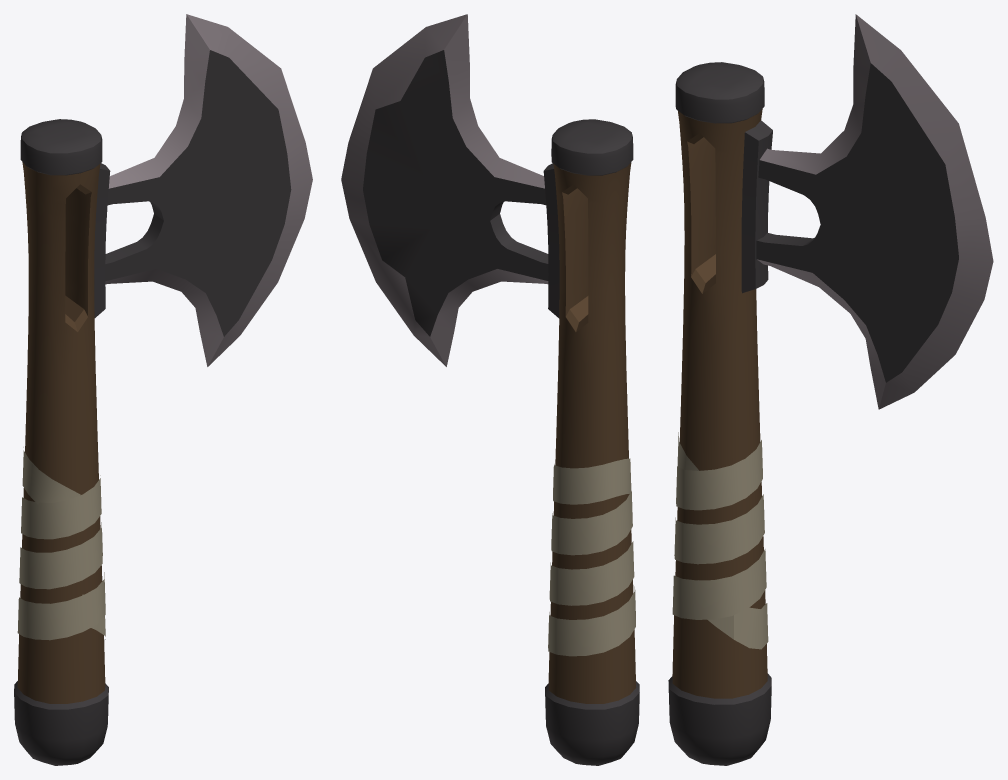
The model's file is Axe.glb.
3 views of the same model, side by side, from view 1: azimuth 30°, elevation 25°; view 2: azimuth 150°, elevation 25°; view 3: azimuth 330°, elevation 25° (orthographic). The views are drawn at different scales.
Parts seen in each view (by area): view 1: Weapon_Axe; view 2: Weapon_Axe; view 3: Weapon_Axe.
Boxes of the visible parts, x1,y1,x2,y2 form: Weapon_Axe: (14,14,312,765); Weapon_Axe: (341,14,639,765); Weapon_Axe: (668,14,993,765).
Bounding box in the file's own units: 0.4467 × 1.05 × 0.1247.
1 material, 1 textured.
